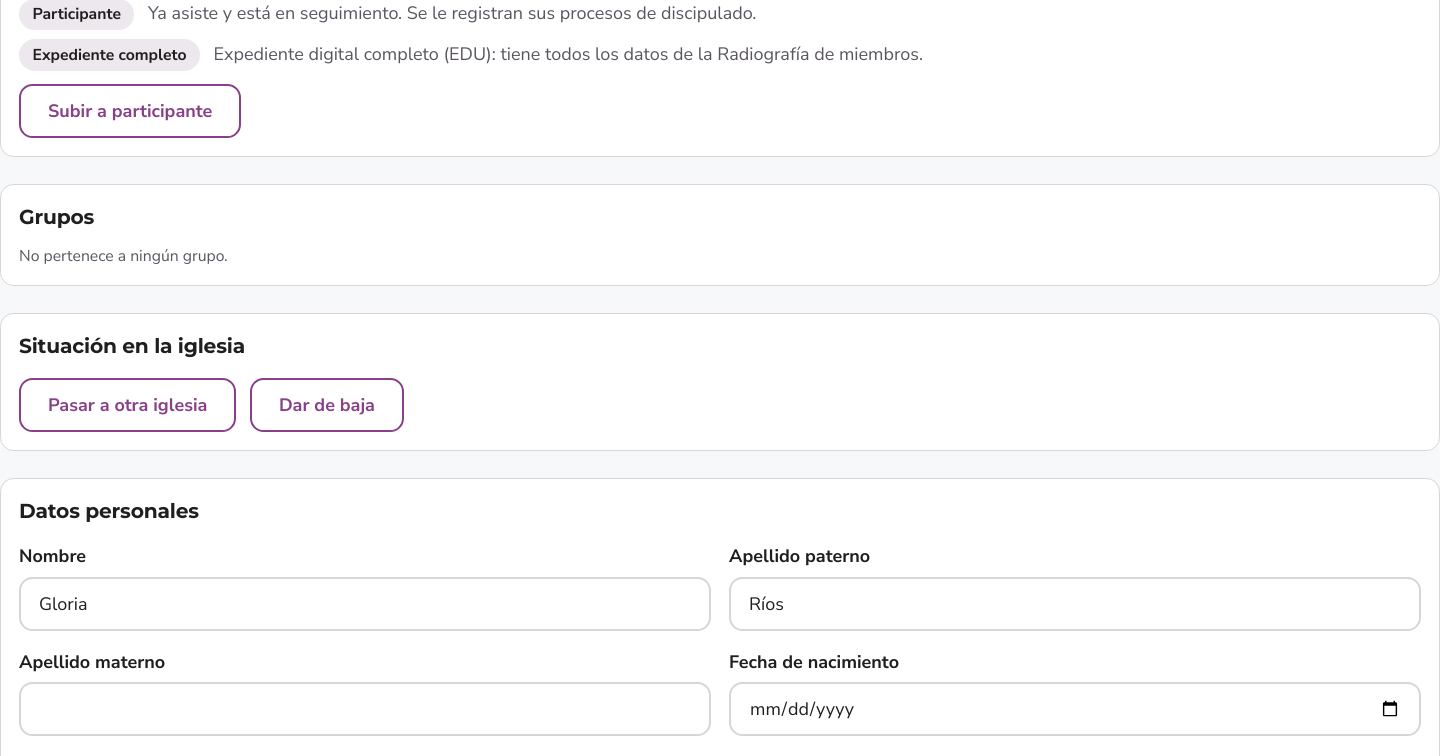
PersonaPage › la baja avisa que saca a la persona de sus grupos y desactiva su acceso
This screenshot has width=1440, height=756.
(page scrolled)
What coordinates should you click on to do the following:
click the button "Dar de baja"
I would click on:
 (327, 405)
Its box is [250,378,404,432].
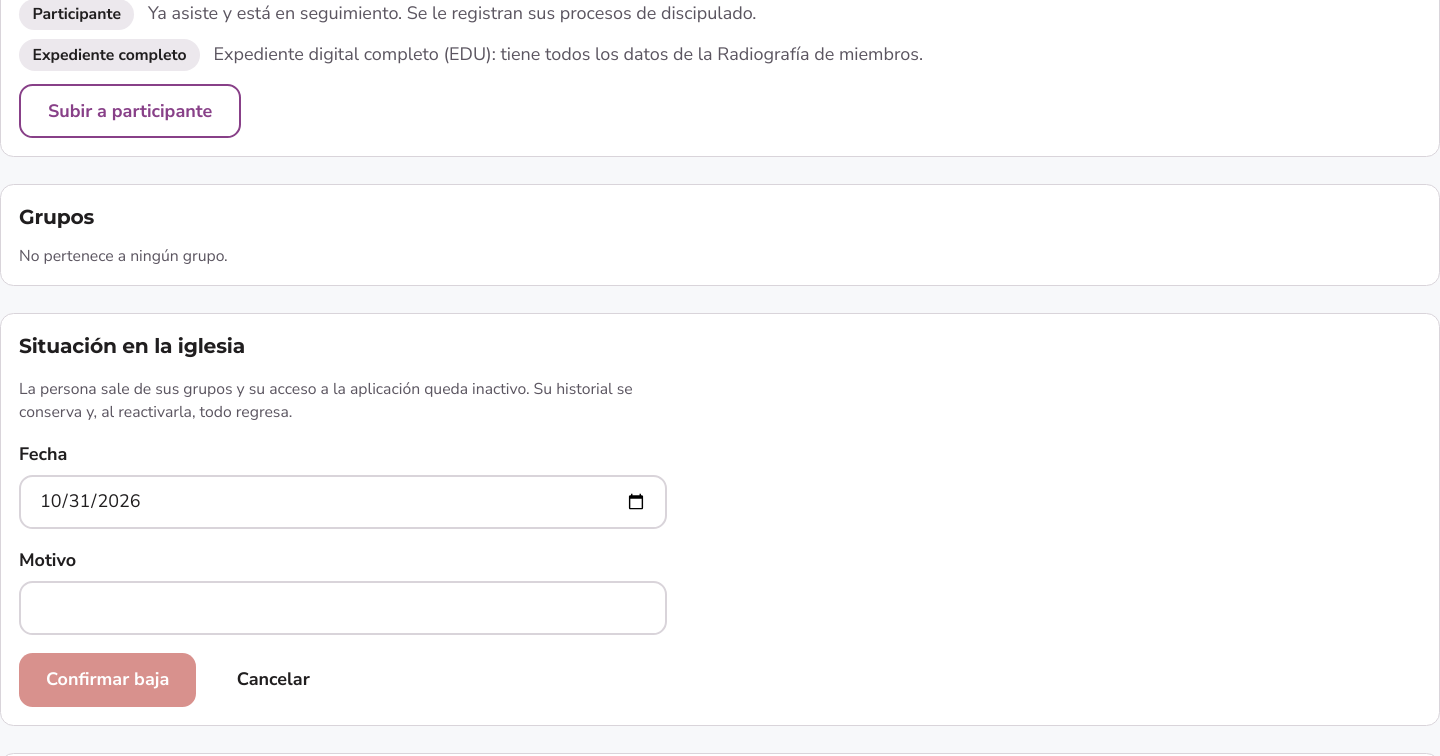
Expected: the text "su acceso a la aplicación queda inactivo" is shown, [19,378,633,422]
